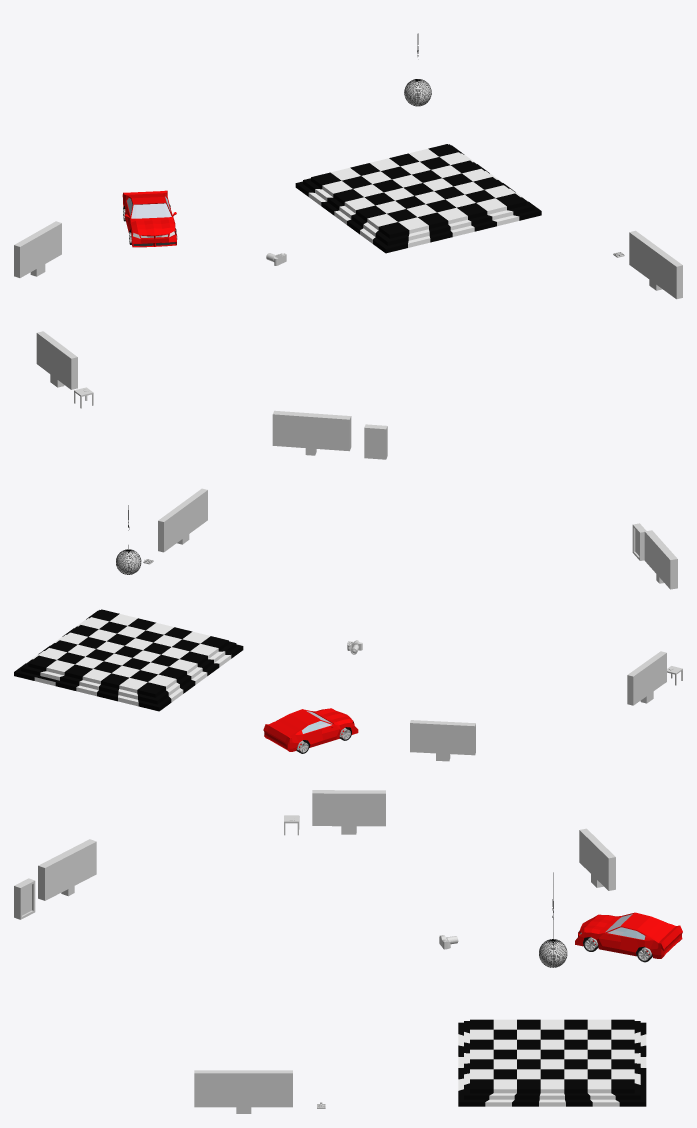
File: bma.glb
The picture shows the model from 3 angles, top to bottom: view 1: azimuth 30°, elevation 25°; view 2: azimuth 150°, elevation 25°; view 3: azimuth 270°, elevation 25°; orthographic projection. The views are drawn at different scales.
Visible parts, largest first — view 1: Dancefloor, 3. Bildschirm, Auto, 5. Bildschirm, 1. Bildschirm, 2. Bildschirm, Handy, Discoball; view 2: Dancefloor, Auto, 1. Bildschirm, 5. Bildschirm, 2. Bildschirm, 3. Bildschirm, Discoball, Handy; view 3: Dancefloor, 5. Bildschirm, Auto, 2. Bildschirm, 3. Bildschirm, 1. Bildschirm, Handy, Discoball.
Part boxes in pixels (x1,y1,x2,y2): Dancefloor: (295,144,541,253); 3. Bildschirm: (272,410,351,455); Auto: (122,190,177,247); 5. Bildschirm: (629,230,682,299); 1. Bildschirm: (14,221,61,277); 2. Bildschirm: (36,331,77,389); Handy: (364,424,387,459); Discoball: (404,33,431,106); Dancefloor: (14,609,243,711); Auto: (263,708,358,753); 1. Bildschirm: (410,720,475,761); 5. Bildschirm: (158,488,207,552); 2. Bildschirm: (627,651,666,705); 3. Bildschirm: (644,530,677,589); Discoball: (116,505,141,574); Handy: (632,523,646,560); Dancefloor: (458,1019,646,1106); 5. Bildschirm: (194,1070,292,1113); Auto: (575,912,682,962); 2. Bildschirm: (312,790,385,834); 3. Bildschirm: (38,839,96,900); 1. Bildschirm: (579,828,615,890); Handy: (14,878,35,919); Discoball: (539,872,567,967).
Size of the model in its own units: 89.84 by 28.71 by 89.11.
